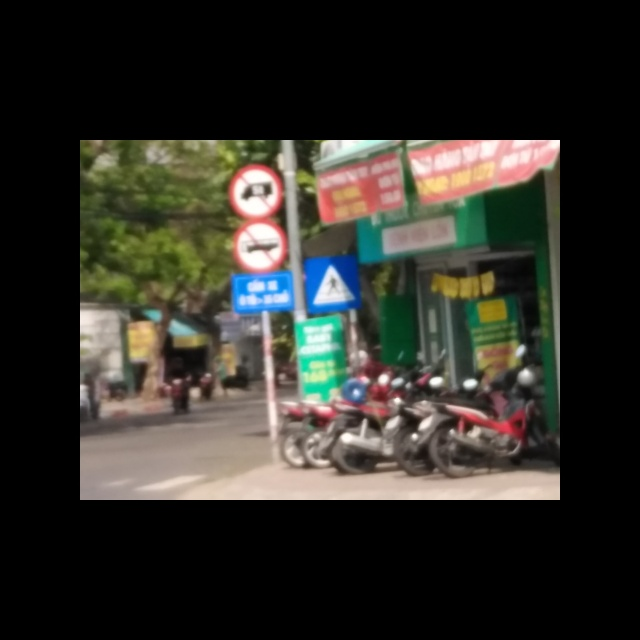Cấm xe tải: (228, 163, 285, 220)
Cấm xe xe khách: (232, 218, 287, 273)
Đường dành cho người đi bộ: (304, 254, 363, 312)
